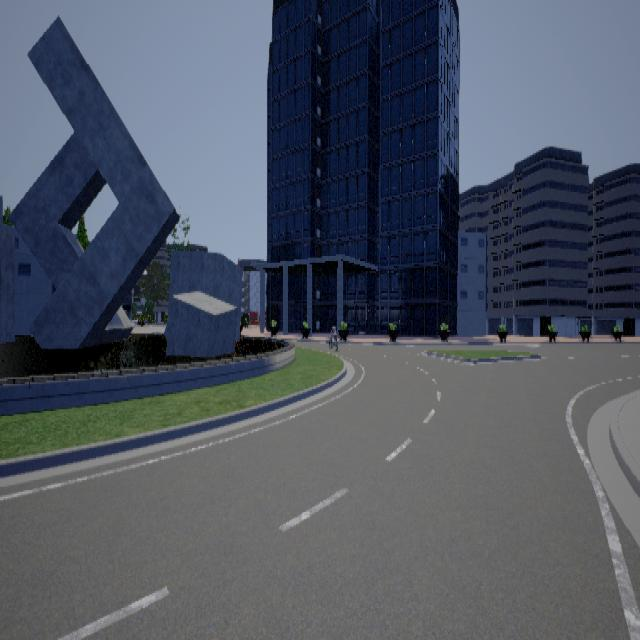bike: (324, 322, 339, 348)
